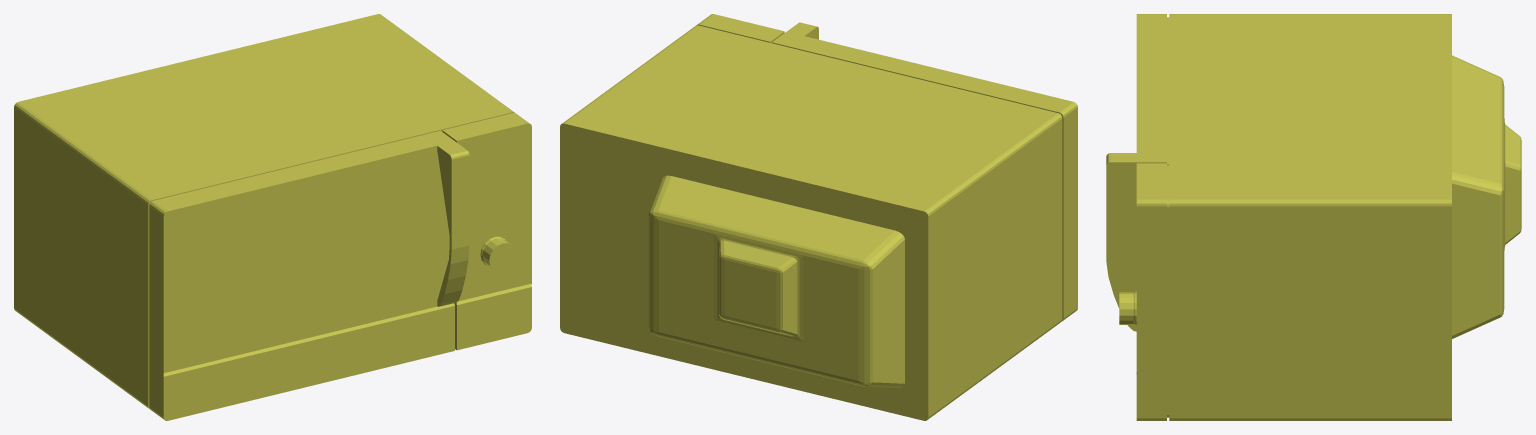
The model's file is eteks-oven.glb.
3 views of the same model, side by side, from view 1: azimuth 30°, elevation 25°; view 2: azimuth 150°, elevation 25°; view 3: azimuth 270°, elevation 25° (orthographic). The views are drawn at different scales.
Parts seen in each view (by area): view 1: Oven_OVen, sweethome3d_opening_on_hinge_1_door, sweethome3d_window_pane_on_hinge_1, Panel, sweethome3d_opening_on_hinge_1_handle, sweethome3d_window_pane_2, Button; view 2: Oven_OVen, Back, sweethome3d_opening_on_hinge_1_door, Panel; view 3: Oven_OVen, Back, Panel, sweethome3d_opening_on_hinge_1_door, sweethome3d_opening_on_hinge_1_handle, Button.
Part boxes in pixels (<box>): Oven_OVen: <box>14,14,514,408</box>; sweethome3d_opening_on_hinge_1_door: <box>149,131,454,420</box>; sweethome3d_window_pane_on_hinge_1: <box>187,182,408,367</box>; Panel: <box>442,113,531,350</box>; sweethome3d_opening_on_hinge_1_handle: <box>437,141,469,306</box>; sweethome3d_window_pane_2: <box>469,152,519,197</box>; Button: <box>480,236,515,271</box>; Oven_OVen: <box>560,25,1062,420</box>; Back: <box>648,175,904,387</box>; sweethome3d_opening_on_hinge_1_door: <box>772,32,1077,321</box>; Panel: <box>697,14,784,43</box>; Oven_OVen: <box>1169,14,1451,420</box>; Back: <box>1452,55,1521,338</box>; Panel: <box>1136,163,1169,420</box>; sweethome3d_opening_on_hinge_1_door: <box>1136,14,1169,165</box>; sweethome3d_opening_on_hinge_1_handle: <box>1106,153,1136,331</box>; Button: <box>1119,291,1136,325</box>.
Size of the model in its own units: 51.5 by 29.5 by 47.75.
